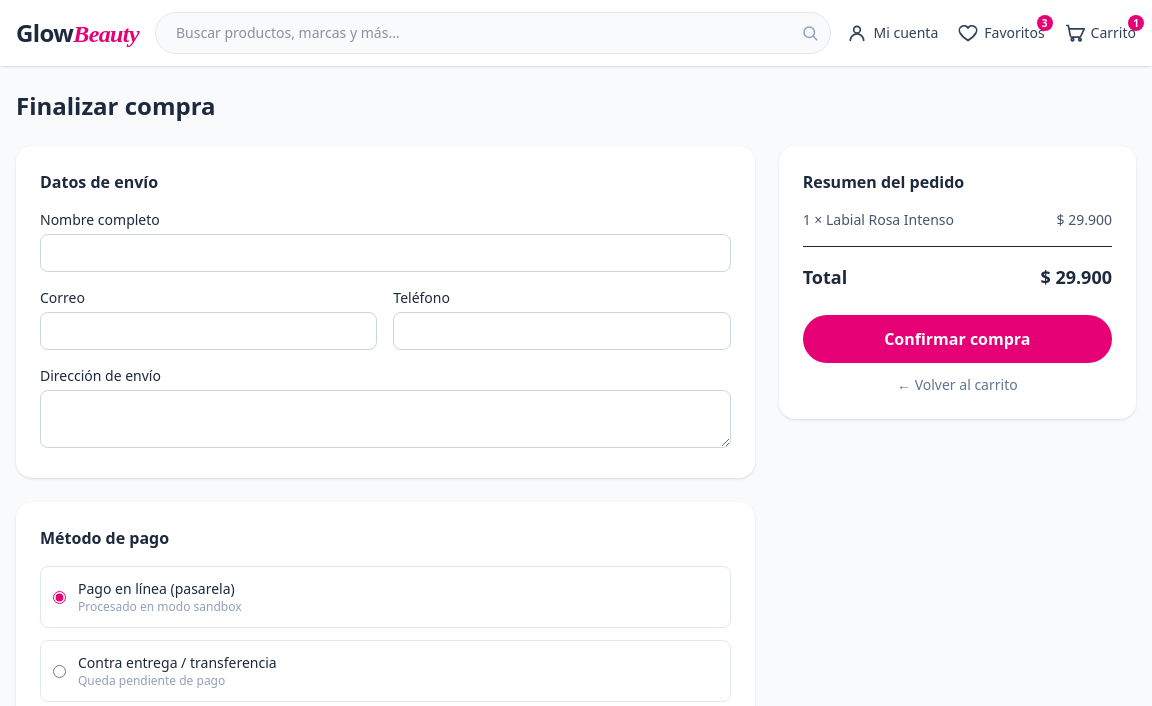
Test: CheckoutPage – formulario › muestra error de stock cuando la API responde 409
Type "Ana García" into the field labelled "Nombre completo".
click(385, 253); type("Ana García")  # box [40,234,731,272]
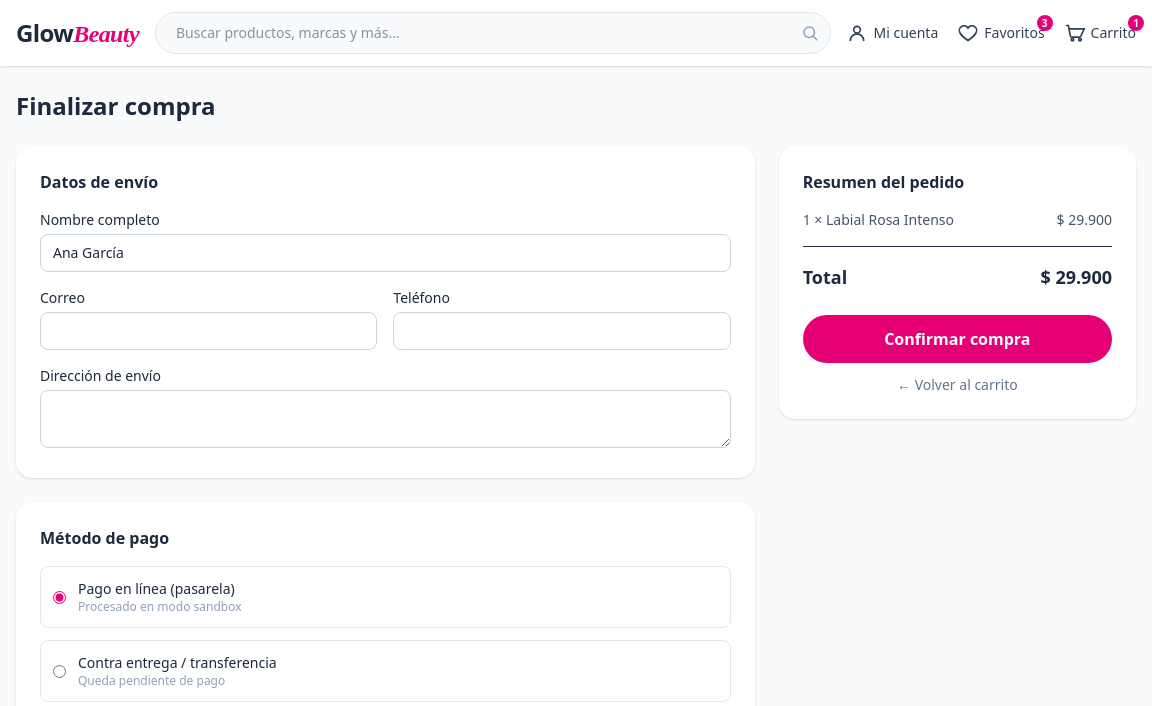
Type "ana@test.com" into the field labelled "Correo".
click(209, 331); type("ana@test.com")  # box [40,312,377,350]
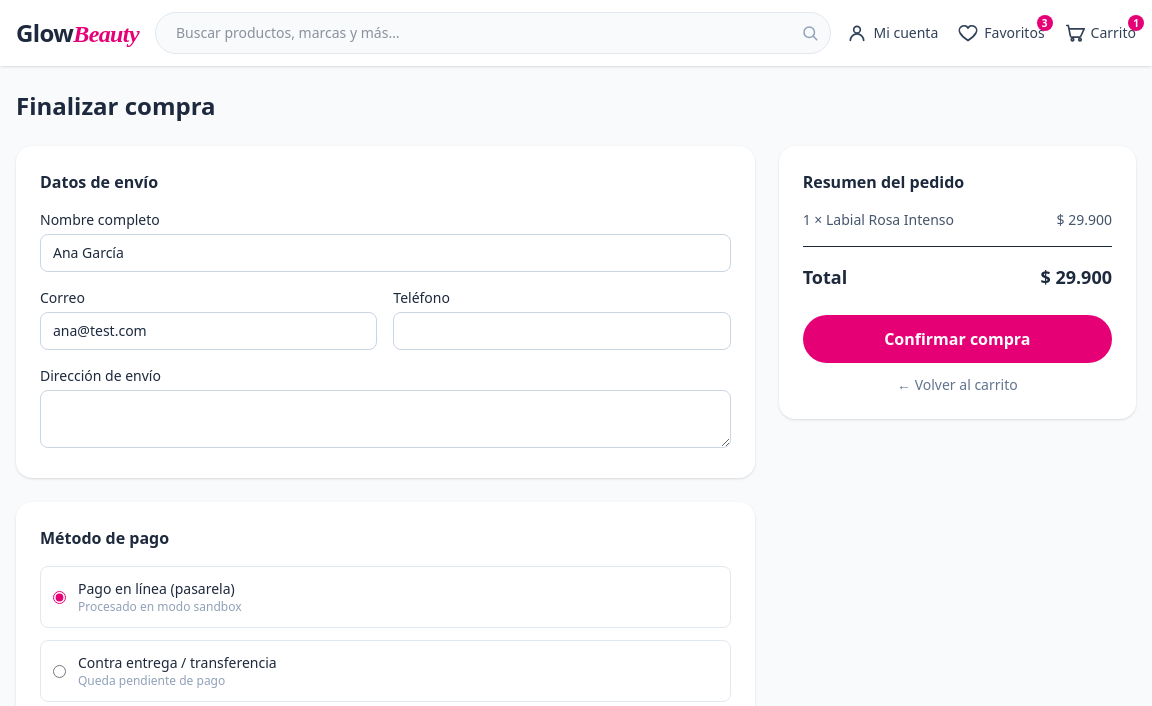
Type "Calle 1 #2-3" into the text box labelled "Dirección de envío".
click(385, 419); type("Calle 1 #2-3")  # box [40,390,731,448]
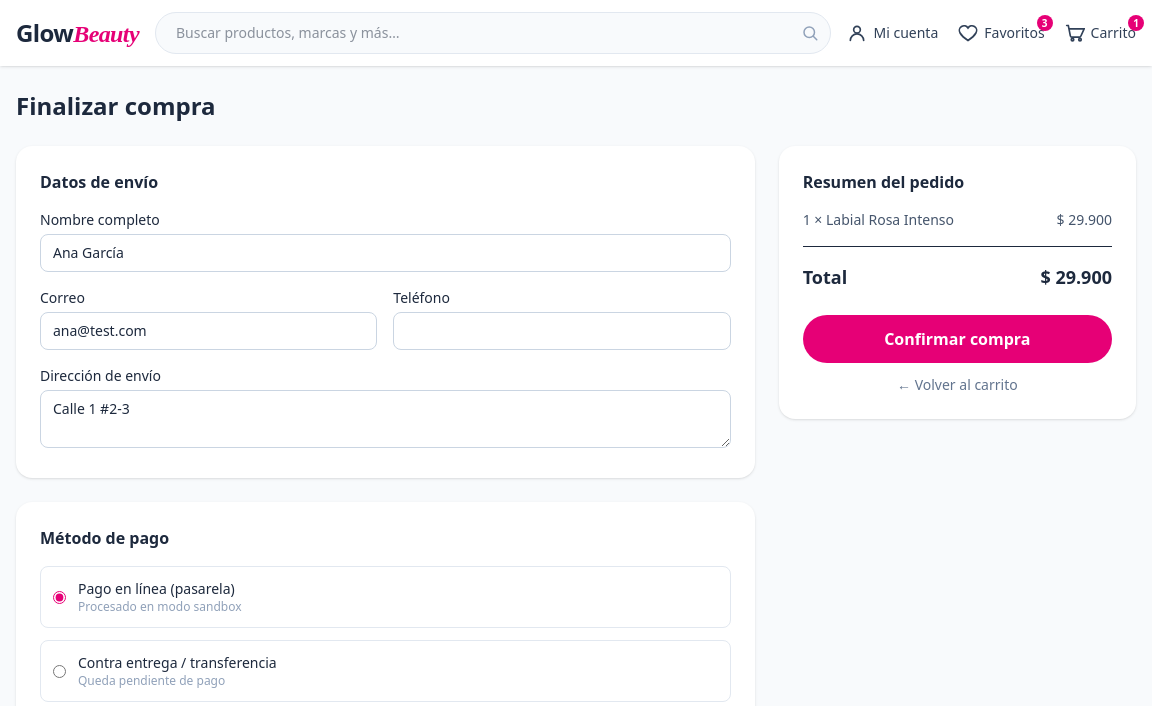
Click the button "Confirmar compra".
click(957, 339)  # box [803,315,1112,363]
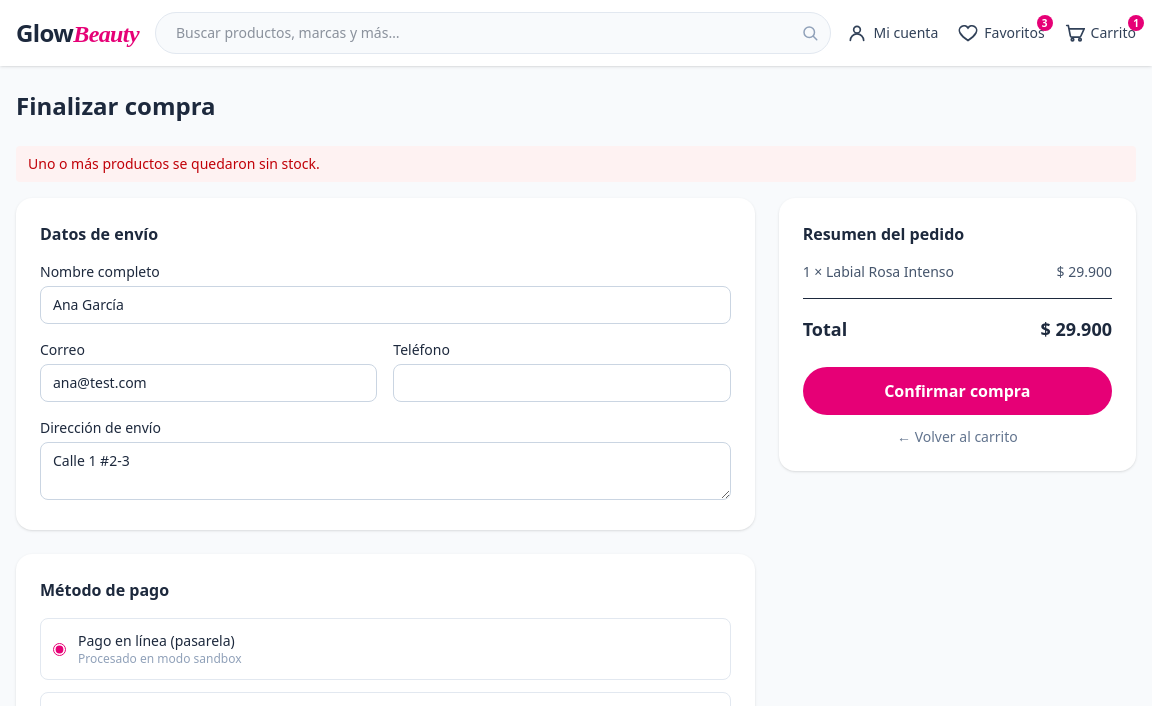
Check: the text "Uno o más productos se quedaron sin stock." is shown, box [16,146,1136,182]
